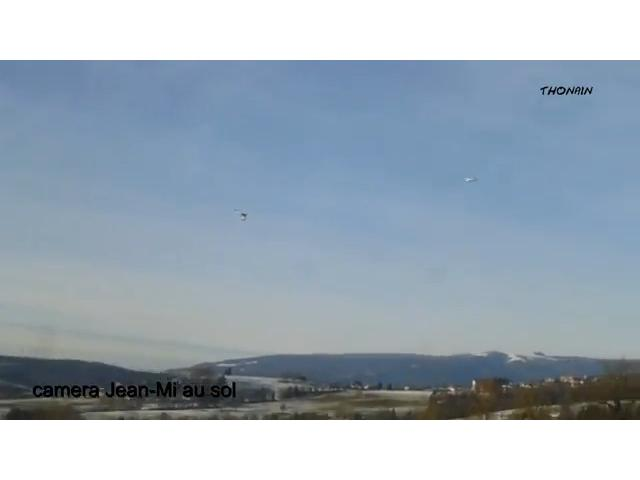Anti-Drone: (228, 202, 252, 232), (463, 170, 493, 188)
